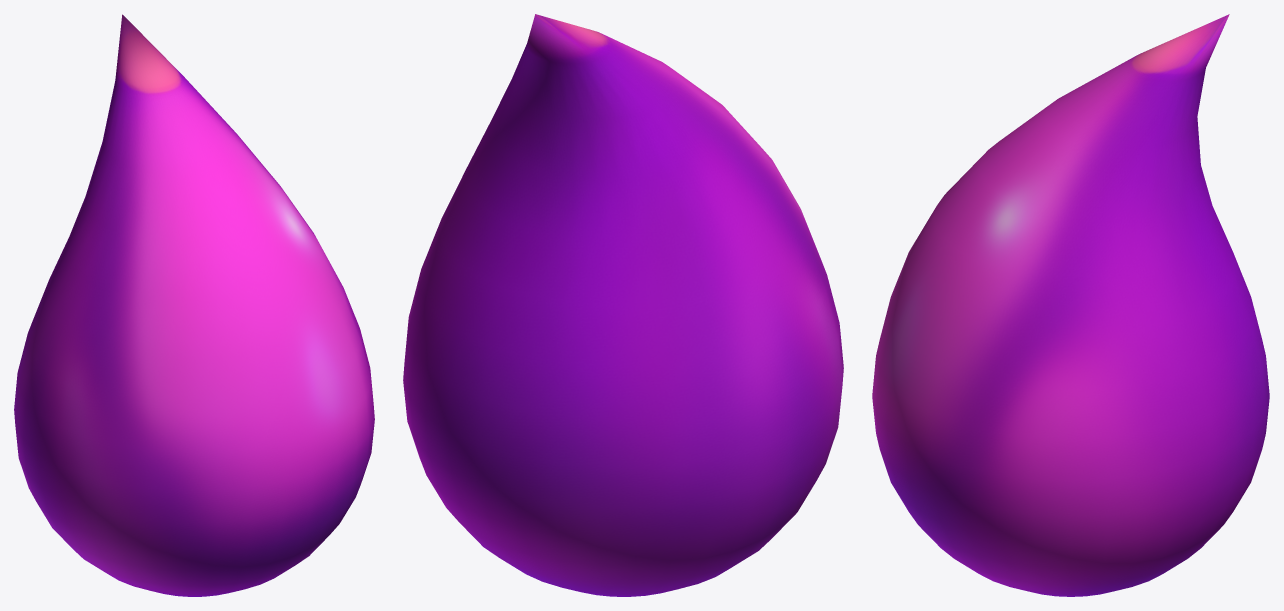
File: PinkElixirDrop.obj
The picture shows the model from 3 angles, left to right: view 1: azimuth 30°, elevation 25°; view 2: azimuth 150°, elevation 25°; view 3: azimuth 270°, elevation 25°; orthographic projection. The views are drawn at different scales.
Visible parts, largest first — view 1: Sphère; view 2: Sphère; view 3: Sphère.
Part boxes in pixels (<box>): Sphère: <box>14,14,374,596</box>; Sphère: <box>403,14,843,596</box>; Sphère: <box>872,14,1269,596</box>.
Size of the model in its own units: 2 by 3.13 by 2.
1 material, 1 textured.
